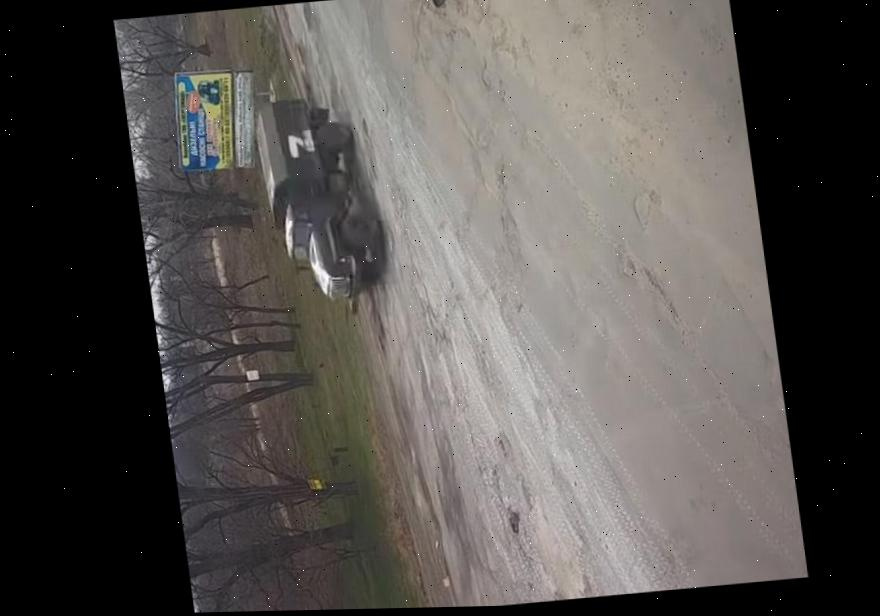truck: (249, 81, 390, 317)
